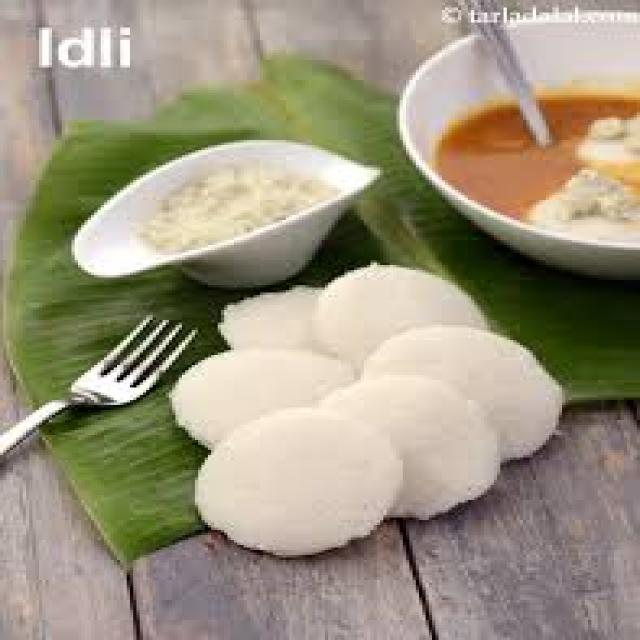IDLI: (179, 403, 410, 559), (365, 324, 560, 453), (334, 384, 497, 525), (179, 341, 348, 444), (321, 262, 482, 358), (234, 285, 318, 343)
